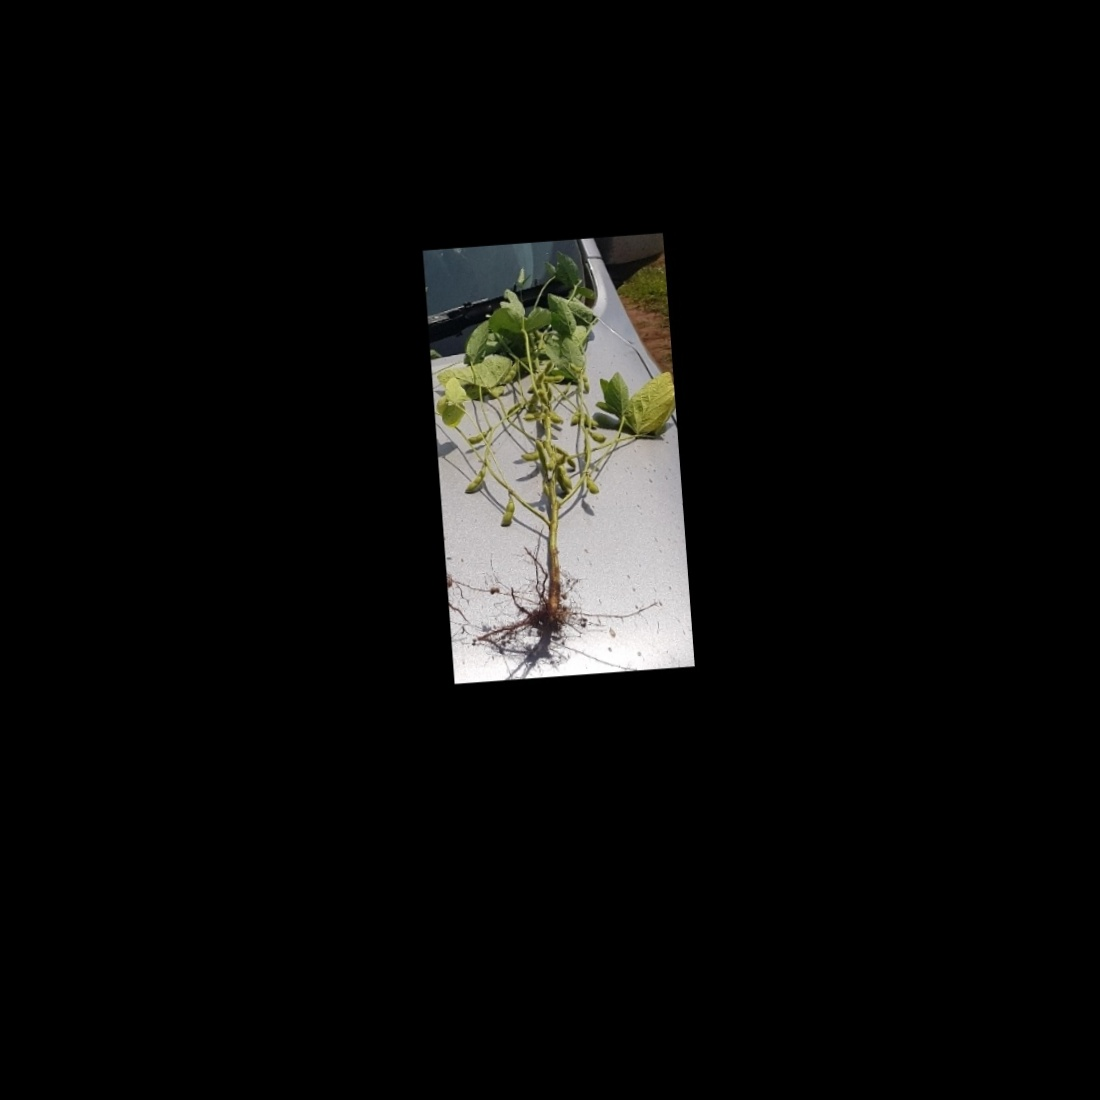pod: (460, 458, 490, 498), (495, 490, 518, 532), (499, 358, 520, 389), (464, 426, 494, 446), (583, 474, 604, 500), (540, 372, 568, 386), (587, 429, 609, 446)
soy: (434, 253, 667, 651)
